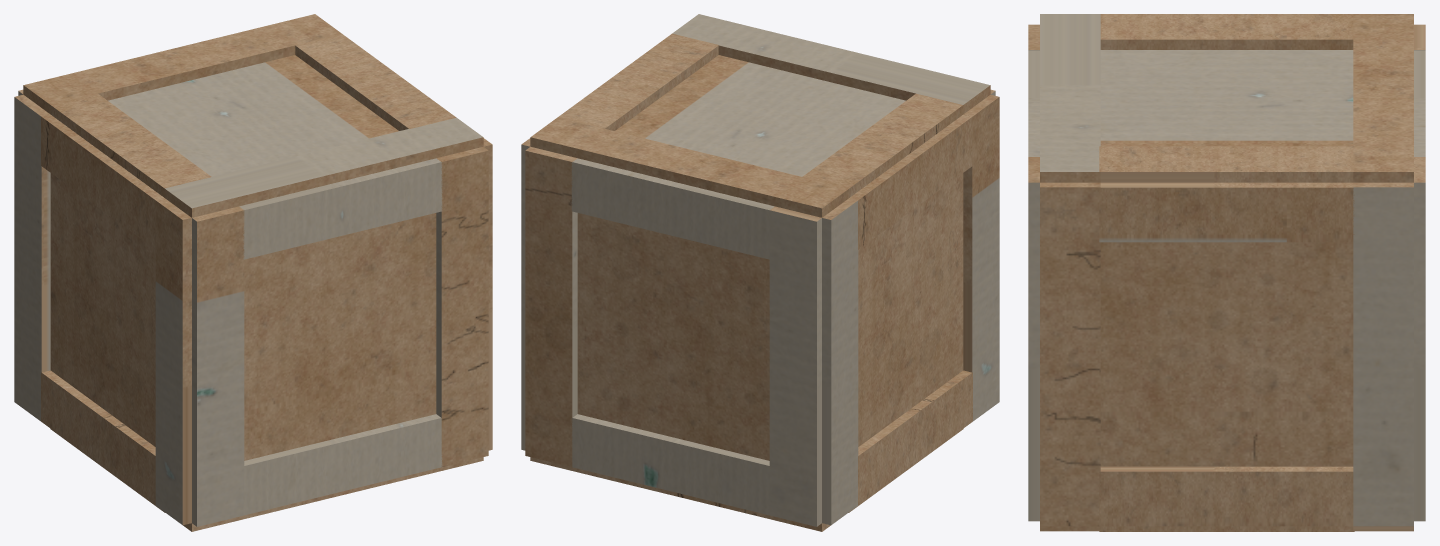
Rendered from crates.fbx.
The picture shows the model from 3 angles, left to right: view 1: azimuth 30°, elevation 25°; view 2: azimuth 150°, elevation 25°; view 3: azimuth 270°, elevation 25°; orthographic projection. The views are drawn at different scales.
Parts seen in each view (by area): view 1: Cube, Cube.001, Cube.003, Cube.002, Cube.007, Cube.005, Cube.006, Cube.008; view 2: Cube, Cube.001, Cube.003, Cube.002, Cube.007, Cube.005, Cube.006, Cube.008; view 3: Cube, Cube.003, Cube.005, Cube.007, Cube.006, Cube.001, Cube.002, Cube.008.
Boxes of the visible parts, bbox=[...] form: Cube: bbox=[50, 55, 436, 460]; Cube.001: bbox=[18, 89, 488, 526]; Cube.003: bbox=[14, 94, 492, 525]; Cube.002: bbox=[239, 158, 442, 515]; Cube.007: bbox=[23, 14, 483, 217]; Cube.005: bbox=[41, 114, 163, 504]; Cube.006: bbox=[50, 33, 456, 512]; Cube.008: bbox=[183, 457, 483, 531]; Cube: bbox=[577, 55, 963, 460]; Cube.001: bbox=[525, 89, 995, 526]; Cube.003: bbox=[521, 94, 999, 525]; Cube.002: bbox=[571, 158, 774, 515]; Cube.007: bbox=[530, 14, 990, 217]; Cube.005: bbox=[850, 114, 972, 505]; Cube.006: bbox=[558, 33, 963, 512]; Cube.008: bbox=[530, 457, 830, 531]; Cube: bbox=[1100, 50, 1353, 466]; Cube.003: bbox=[1040, 182, 1413, 526]; Cube.005: bbox=[1099, 182, 1354, 526]; Cube.007: bbox=[1040, 14, 1413, 182]; Cube.006: bbox=[1099, 14, 1354, 531]; Cube.001: bbox=[1028, 24, 1425, 521]; Cube.002: bbox=[1028, 50, 1425, 156]; Cube.008: bbox=[1040, 526, 1413, 531].
Bounding box in the file's own units: 129 × 129 × 129.
